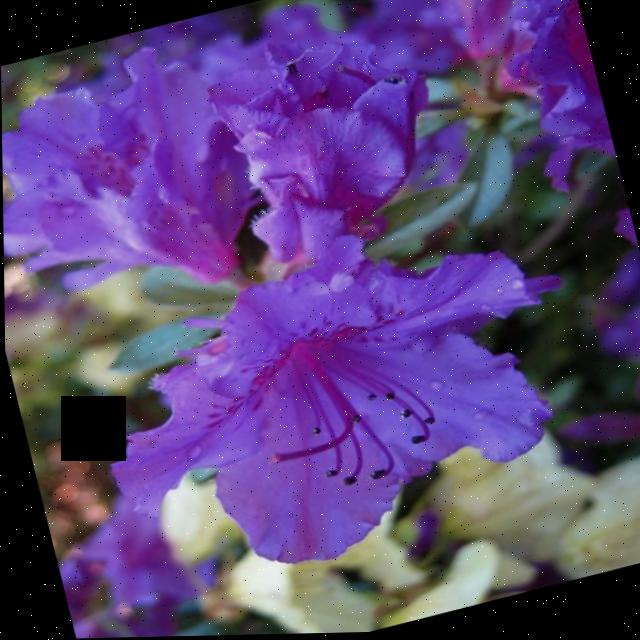azalea: (71, 201, 589, 607), (1, 38, 287, 333), (207, 21, 482, 252)
